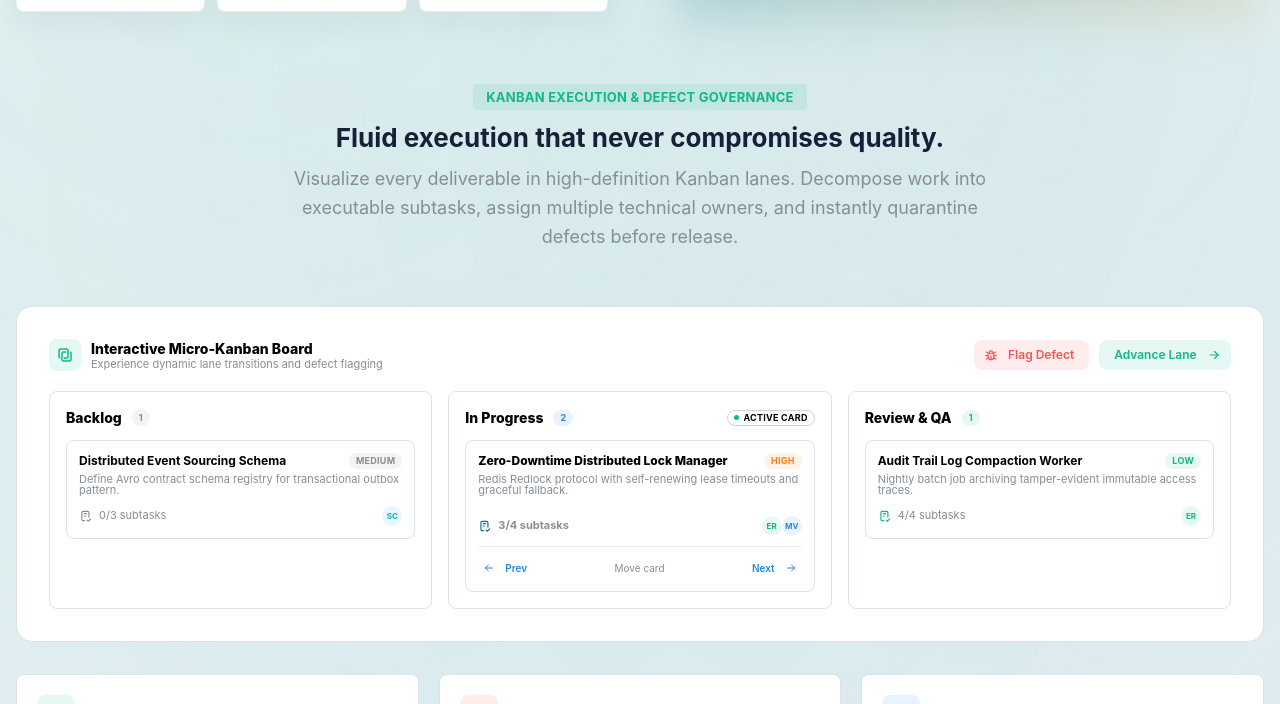
AuthLandingPage Showcase › advances Kanban lanes and toggles defect flag
The image size is (1280, 704).
(page scrolled)
Expected: the text "Zero-Downtime Distributed Lock Manager" is shown, [478, 453, 728, 470]
Expected: the text "Defect: Token Race Condition" is not shown
Note: Flag Defect
Step 1. Click the button "Flag Defect" → [1031, 355], box [974, 340, 1089, 370]
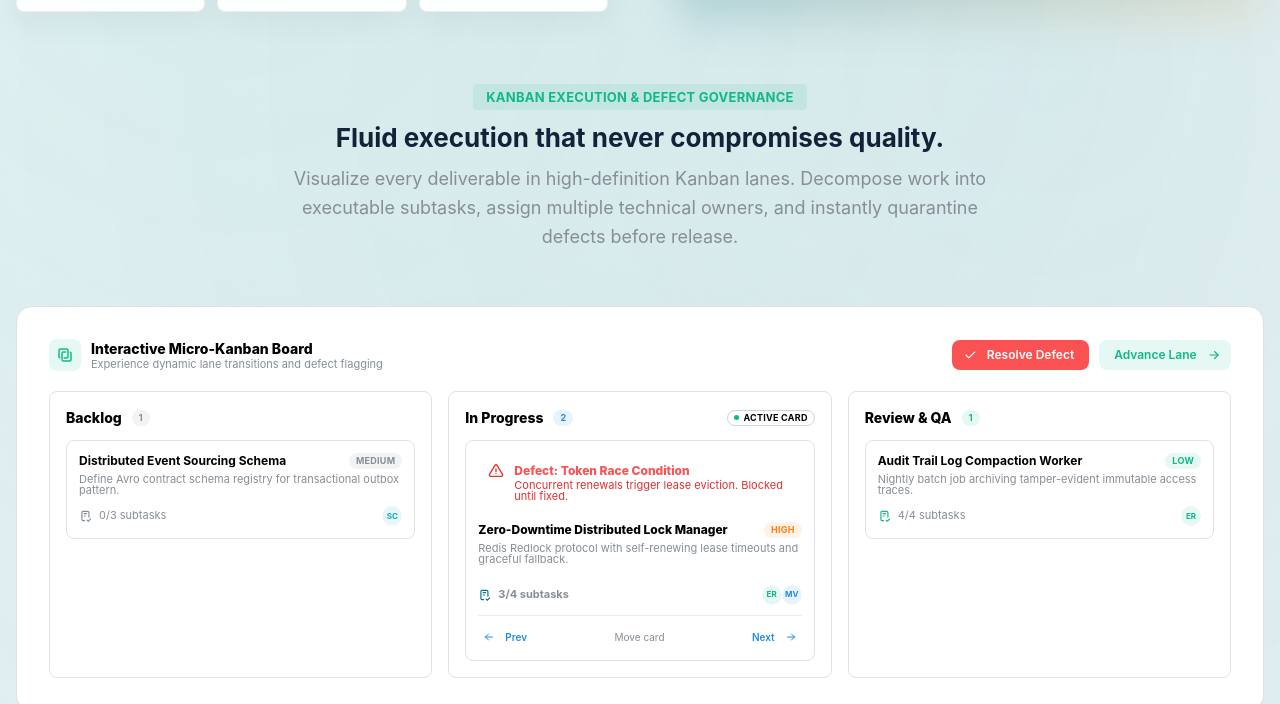
Expected: the text "Defect: Token Race Condition" is shown, [514, 463, 690, 478]
Expected: the button "Resolve Defect" is shown
Note: Resolve Defect
Step 2. Click the button "Resolve Defect" → [1021, 355], box [952, 340, 1089, 370]
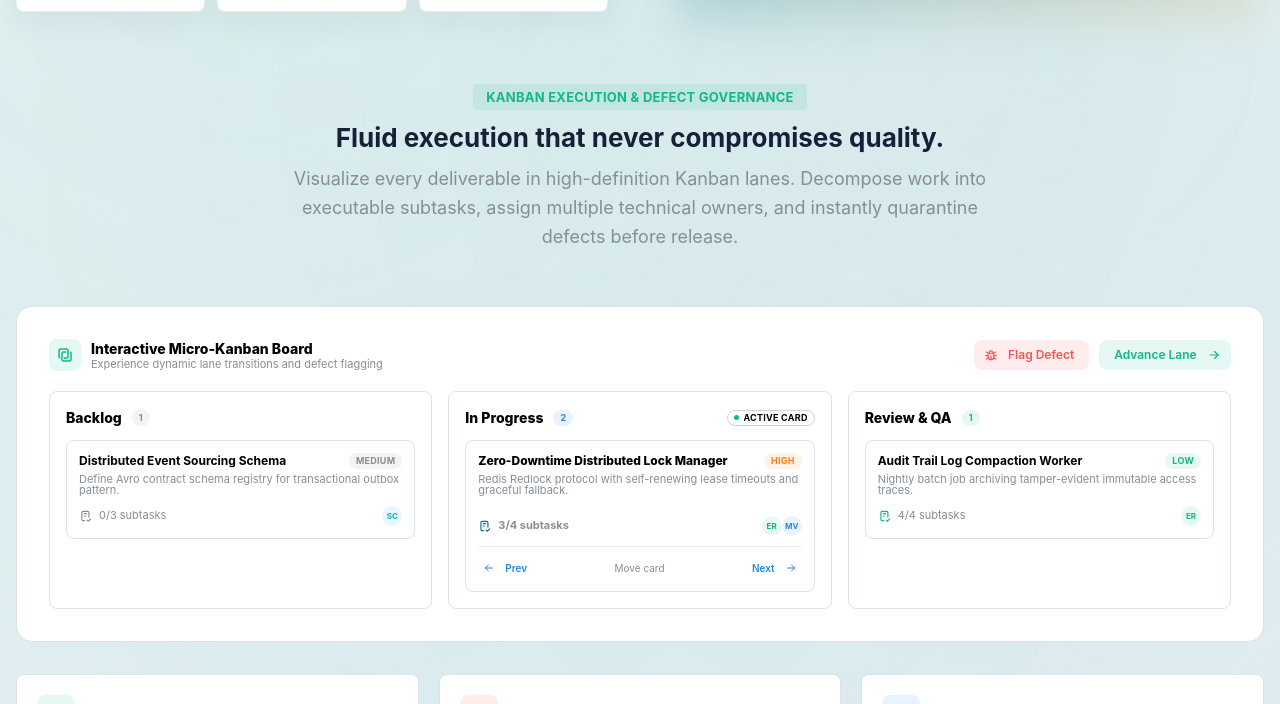
Expected: the text "Defect: Token Race Condition" is gone
Note: Advance lane
Step 3. Click the button "Advance Lane" → [1165, 355], box [1099, 340, 1231, 370]
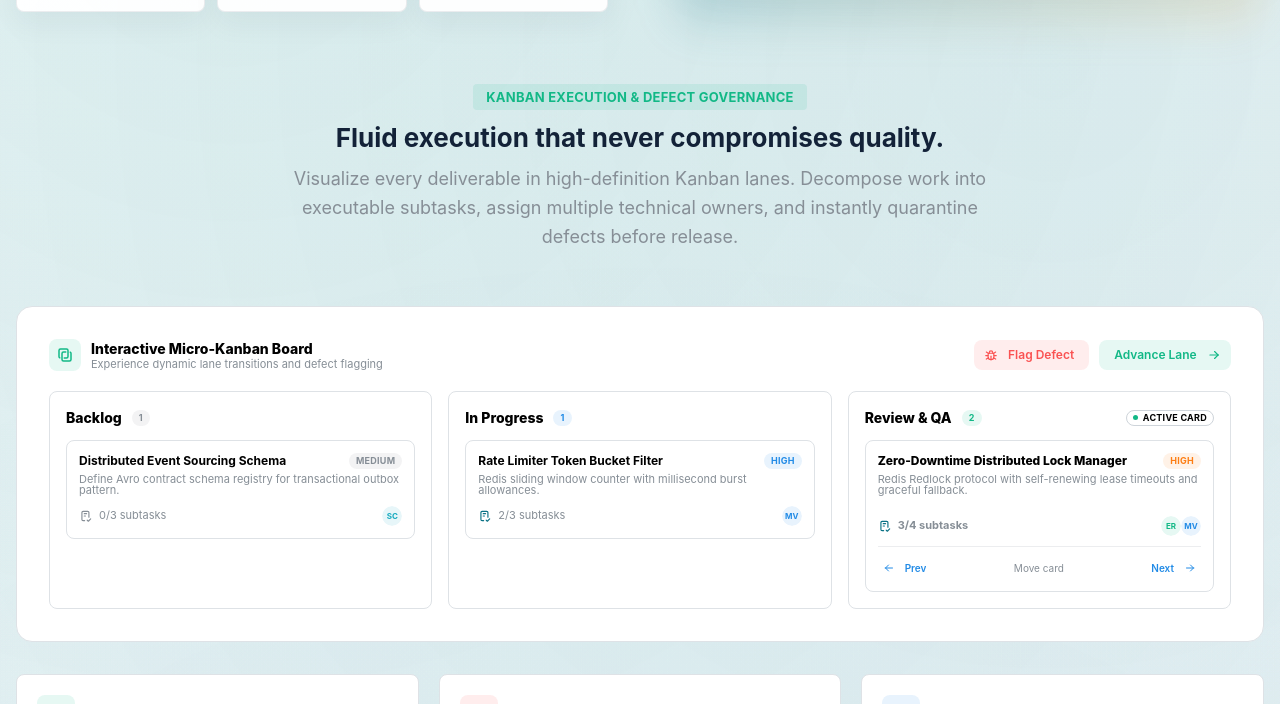
Expected: the text "Zero-Downtime Distributed Lock Manager" is shown, [878, 453, 1127, 470]
